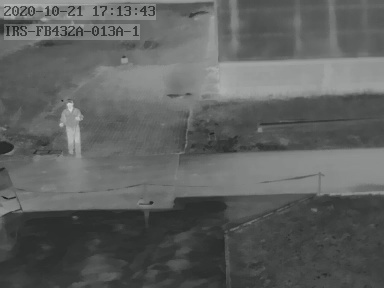person: (58, 98, 84, 158)
